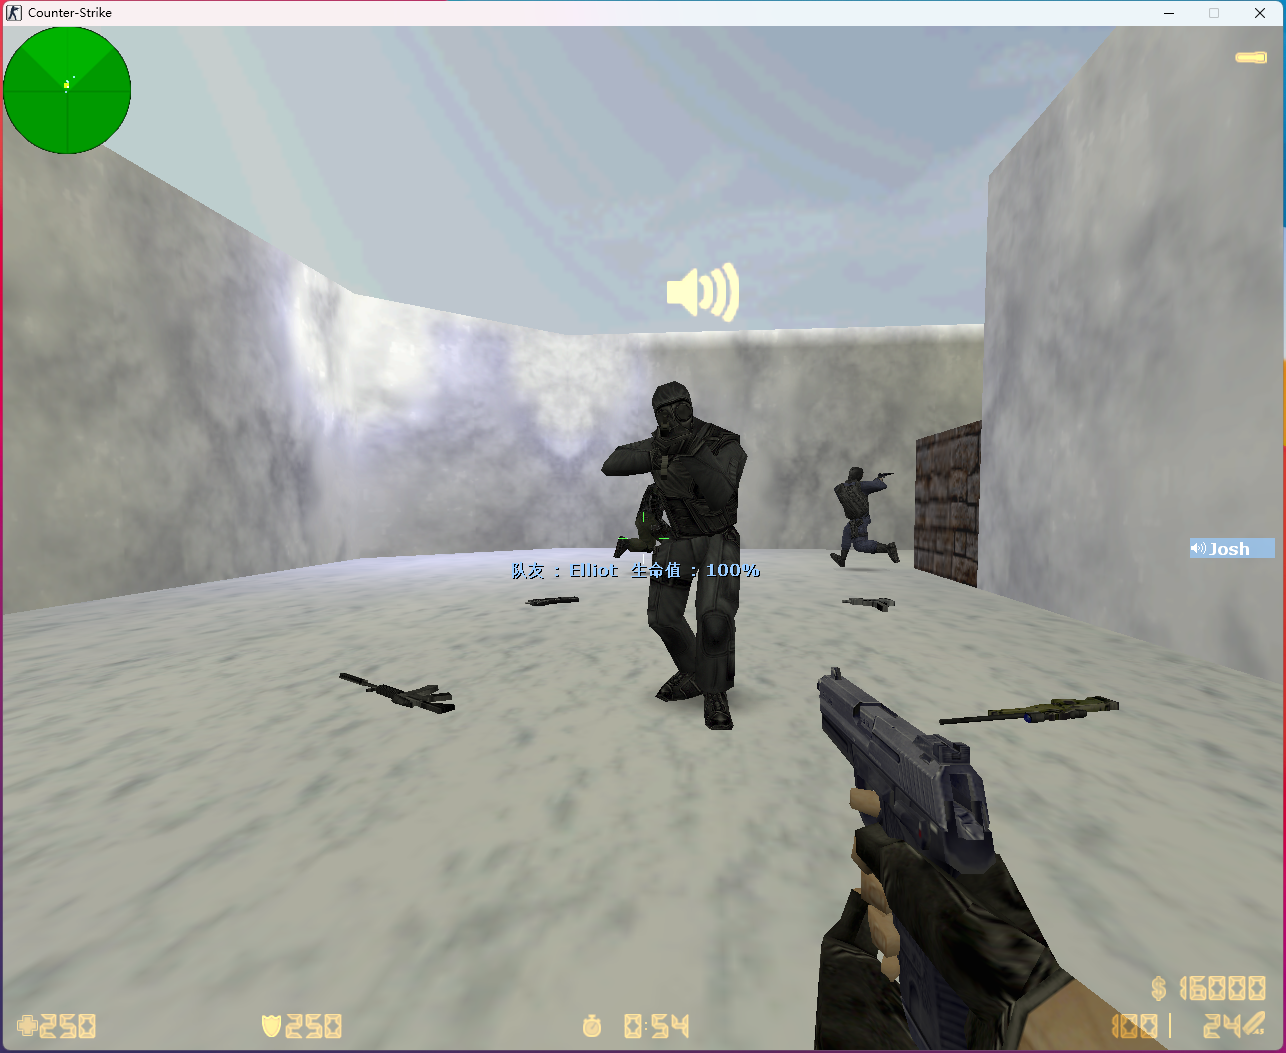C: (600, 387, 750, 730), (829, 466, 900, 571), (617, 477, 679, 561)
weapon: (937, 695, 1125, 727), (338, 671, 453, 716), (518, 591, 582, 608), (840, 597, 890, 613)
